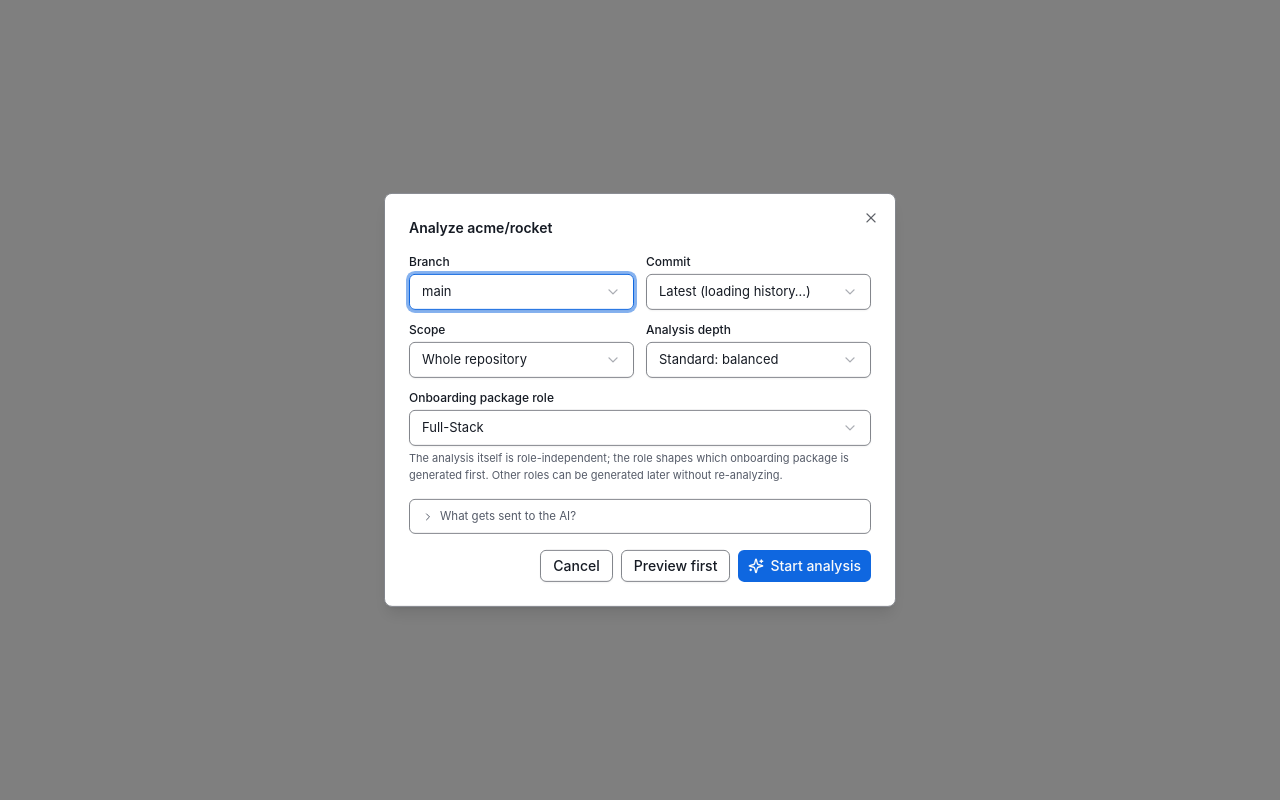
Test: AnalyzeDialog — credit rejections › offers a contact route, not a dead end, on abuse_detected
Click the button "Start analysis" at (805, 566), box x1=738 y1=550 x2=871 y2=582
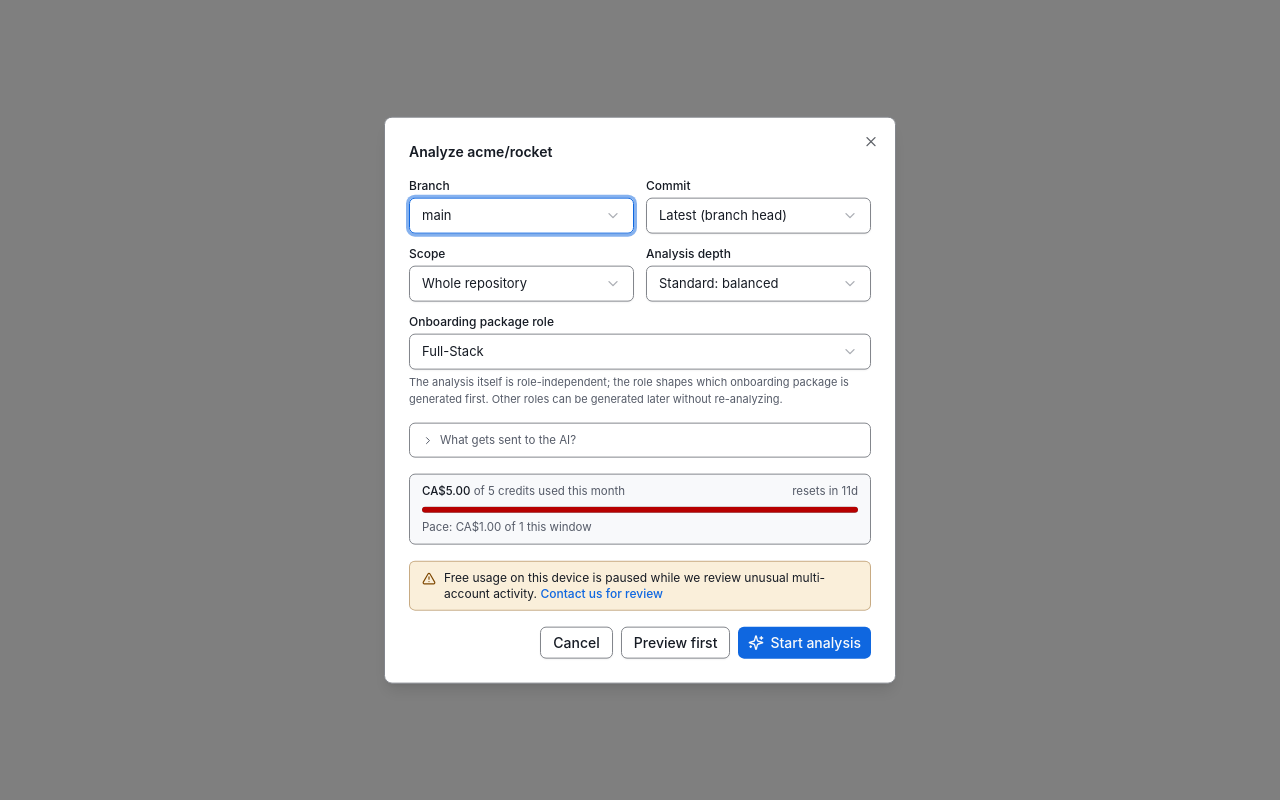
Check: the text "Free usage on this device is paused" is shown, box x1=444 y1=569 x2=825 y2=600
